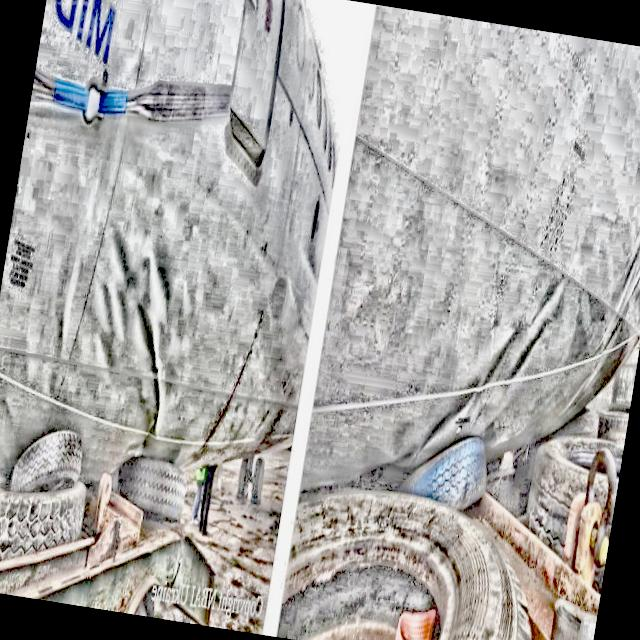dent: (420, 260, 560, 470), (81, 228, 194, 442)
